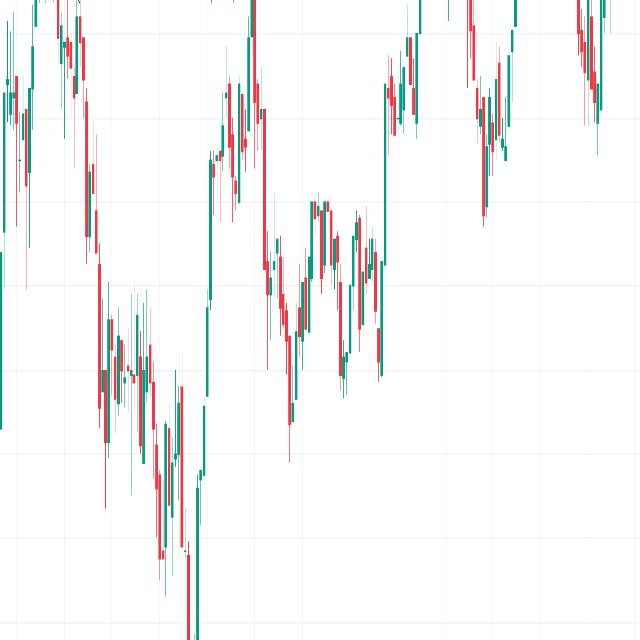Triple-Top: (260, 168, 398, 401)
